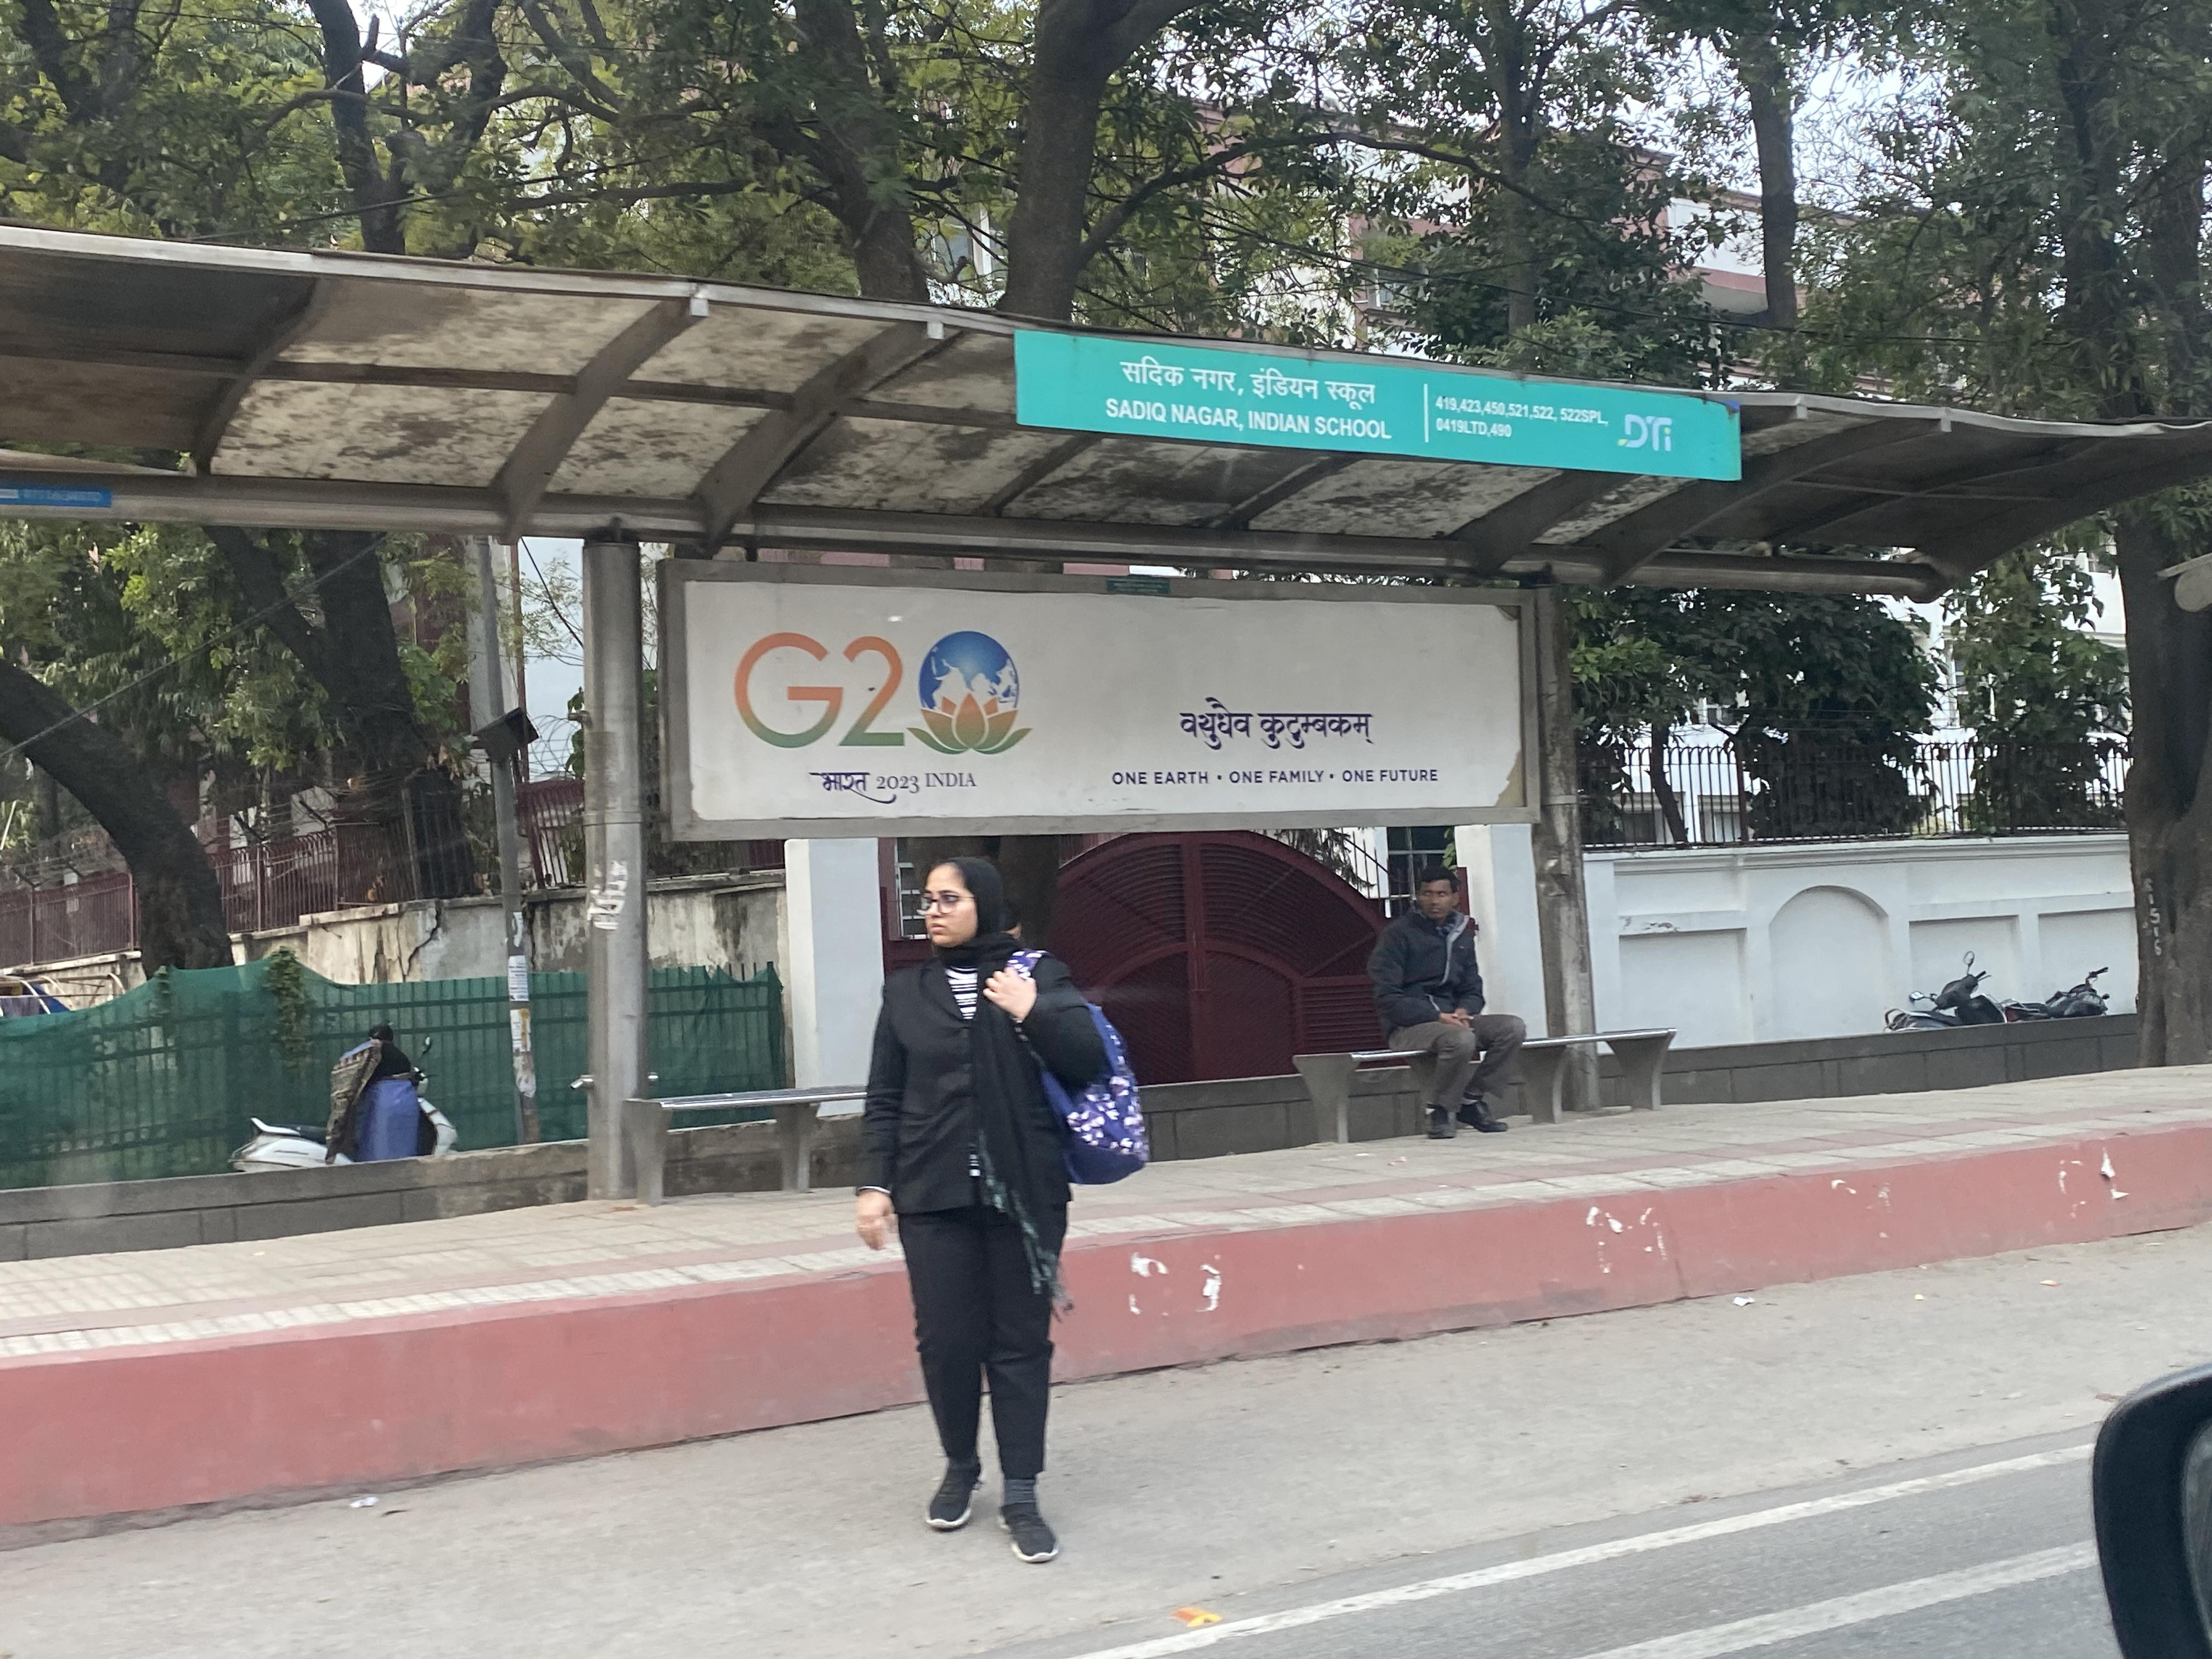Bus-stop-board: (1003, 312, 1771, 511)
